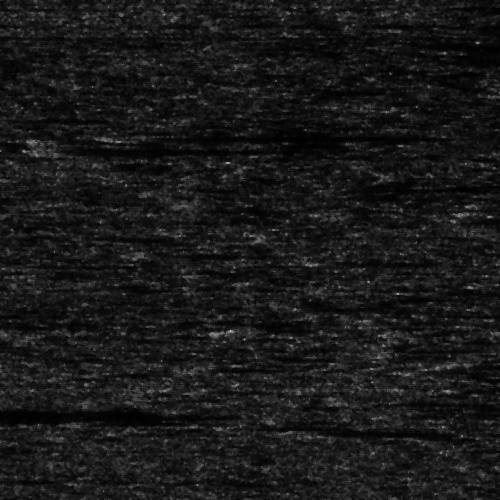object: (78, 132, 183, 139), (273, 257, 346, 266), (17, 143, 70, 154), (201, 421, 254, 430), (430, 207, 500, 212), (462, 281, 500, 288), (451, 200, 500, 205), (289, 428, 330, 433)
shadow: (44, 143, 291, 154), (0, 405, 152, 422), (131, 132, 391, 139), (310, 257, 402, 266), (227, 421, 315, 430), (310, 428, 431, 433), (466, 207, 500, 212), (483, 281, 500, 288), (483, 200, 500, 205)
